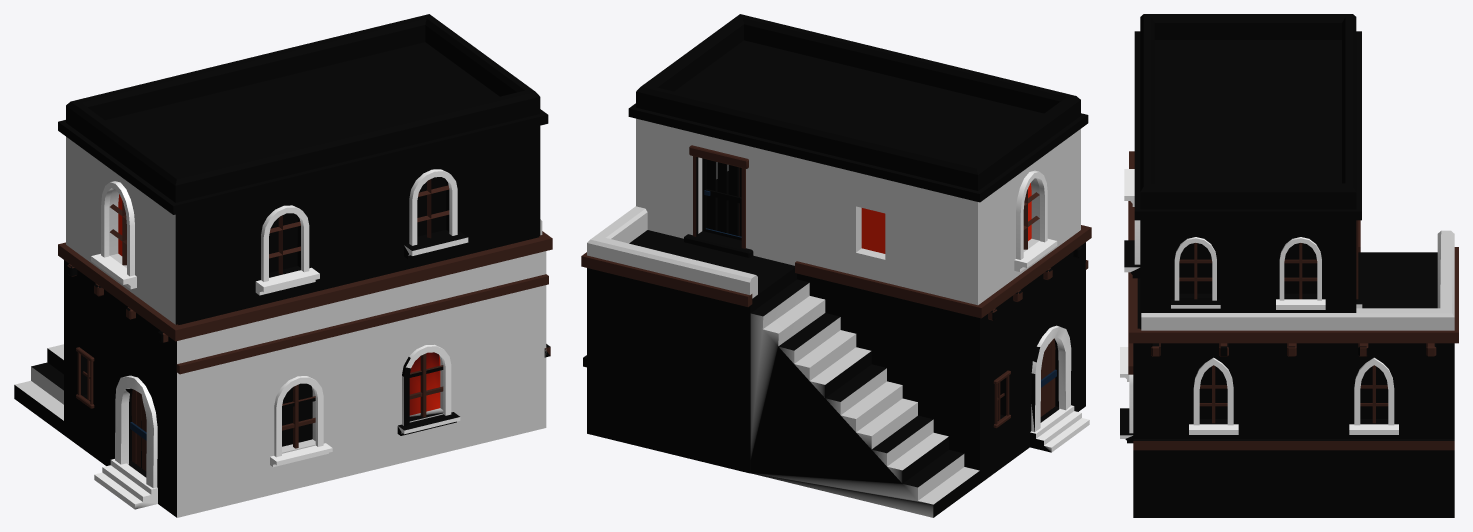
File: civilian_house_31_h.FBX
3 renders of one model, left to right at view 1: azimuth 30°, elevation 25°; view 2: azimuth 150°, elevation 25°; view 3: azimuth 270°, elevation 25°, orthographic. The views are drawn at different scales.
Visible parts, largest first — view 1: civilian_house_31_h; view 2: civilian_house_31_h; view 3: civilian_house_31_h.
Boxes of the visible parts, x1=… form: civilian_house_31_h: x1=14, y1=14, x2=552, y2=517; civilian_house_31_h: x1=581, y1=14, x2=1091, y2=517; civilian_house_31_h: x1=1120, y1=14, x2=1458, y2=517.
Bounding box in the file's own units: 1146 × 904 × 844.
